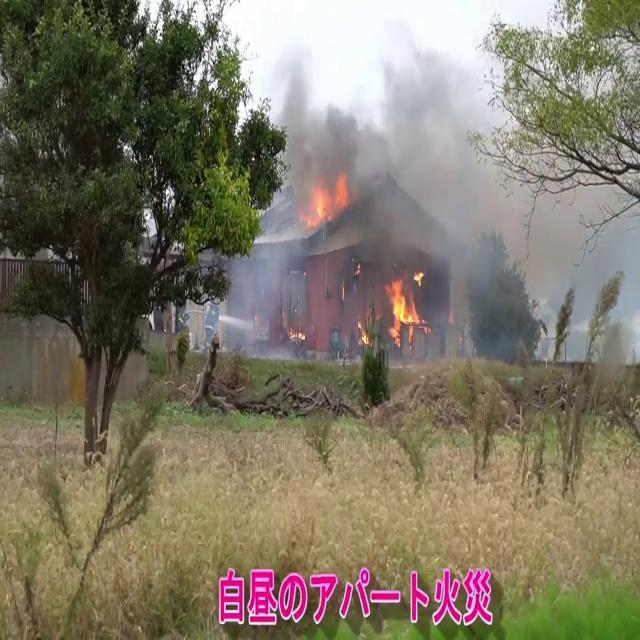Fire: (382, 265, 430, 345), (303, 166, 353, 233)
Smoke: (257, 17, 554, 330)
